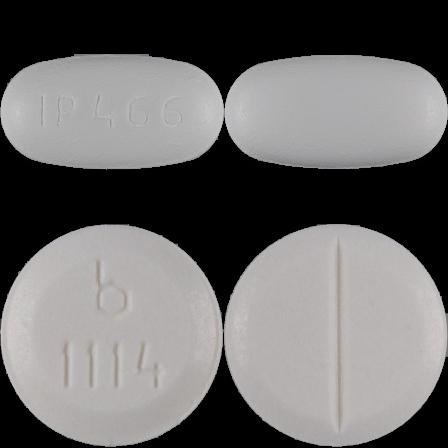0615-2528: (0, 0, 224, 224)
